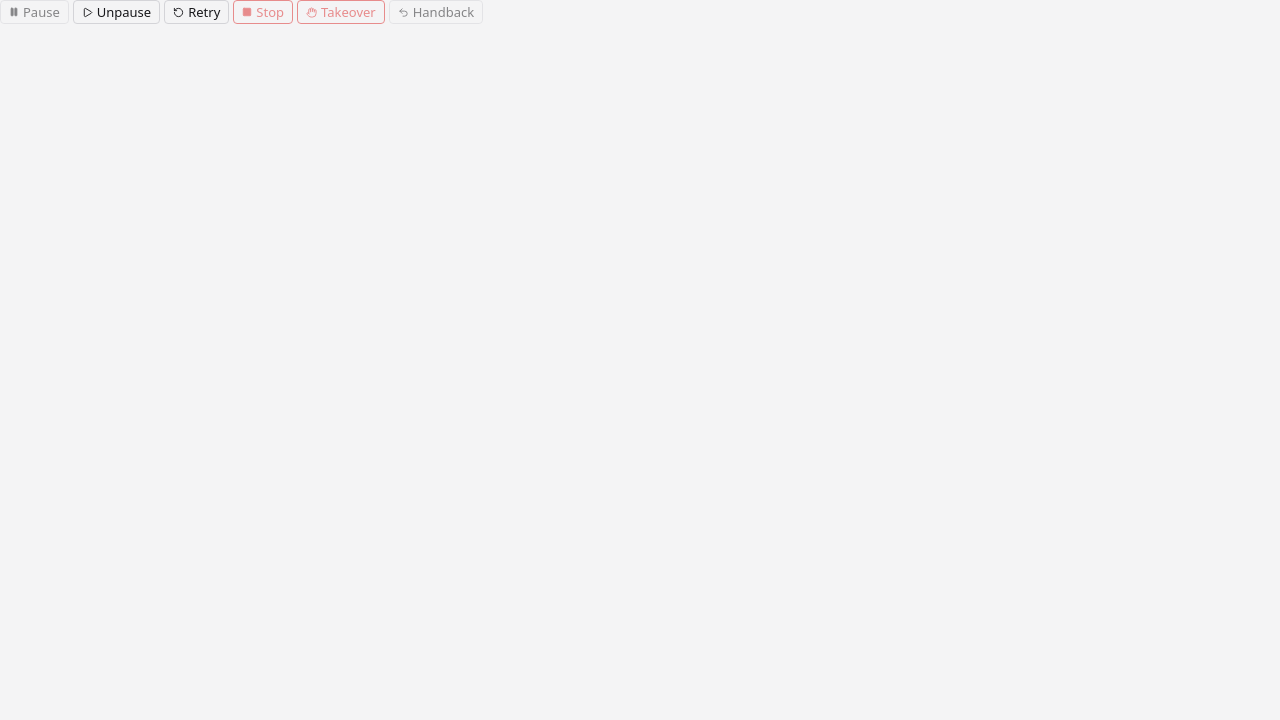
it: LoopActionBar retry dirty UX › does not offer discard for unmanaged dirty worktree
This screenshot has width=1280, height=720.
Click the button "Retry" at {"x": 197, "y": 12}, box [164, 0, 229, 24]
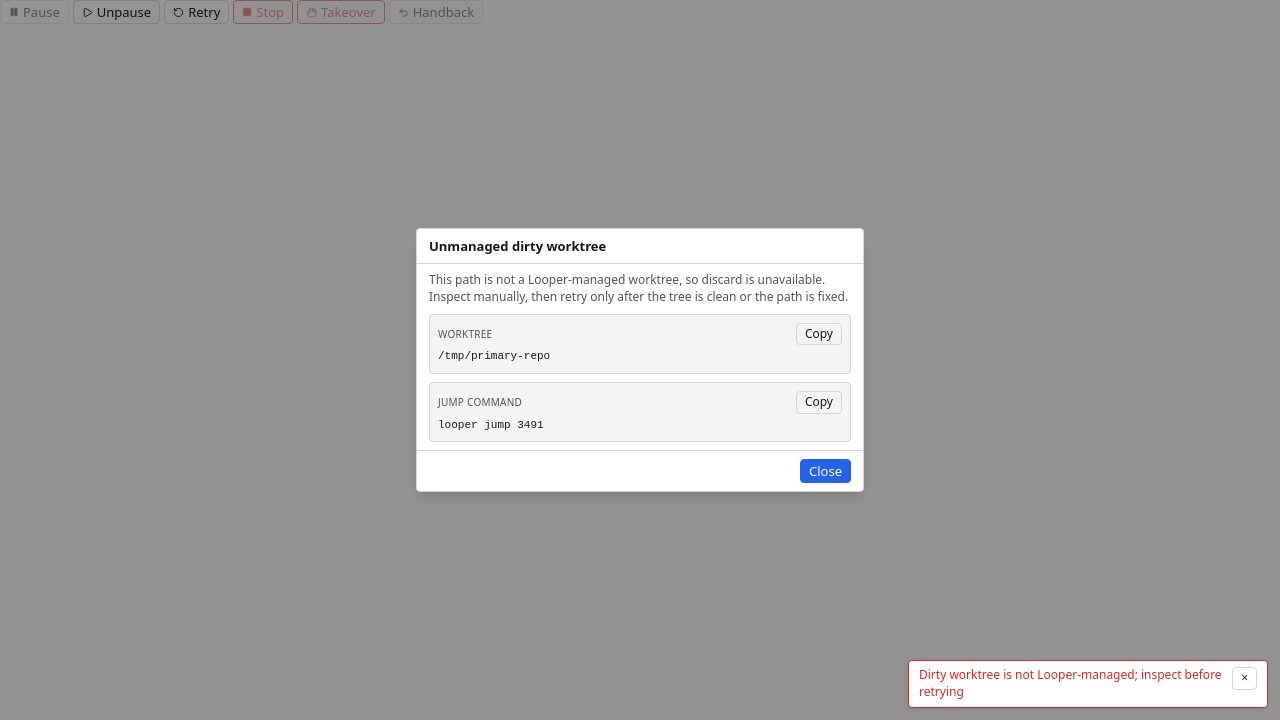
expect the heading "Unmanaged dirty worktree" is shown: met, box [429, 237, 606, 255]
